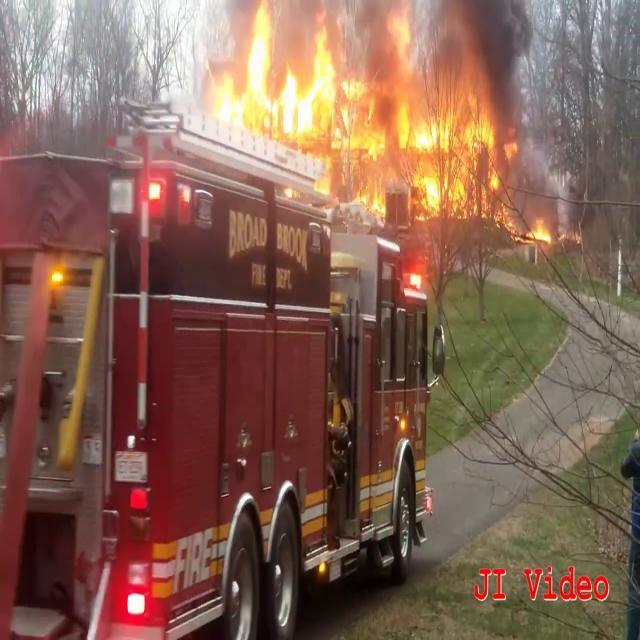Fire: (199, 1, 512, 226), (525, 213, 558, 248)
